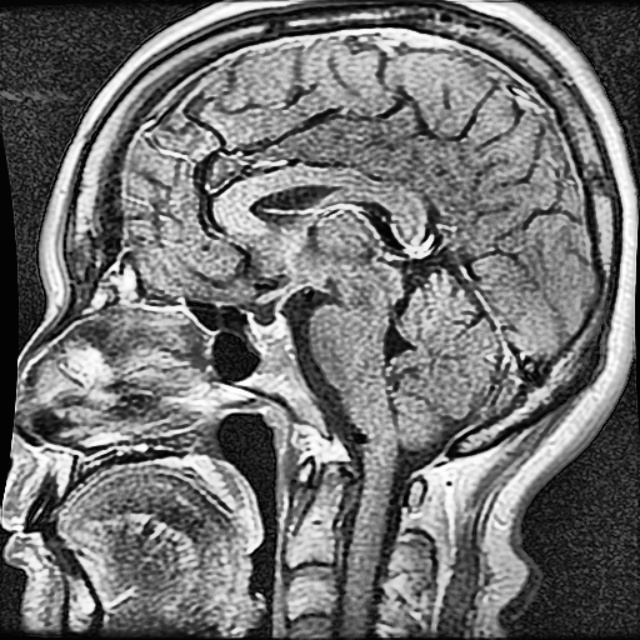Pituitary: (247, 312, 285, 340)
